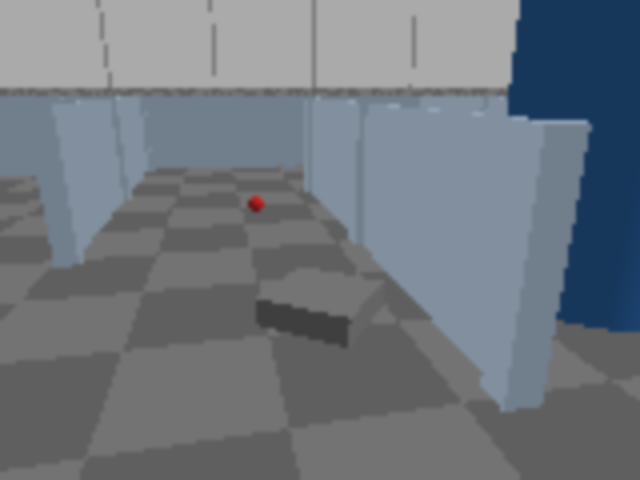obstacle: (256, 266, 384, 348)
person: (501, 0, 638, 331)
puck: (245, 194, 267, 214)
